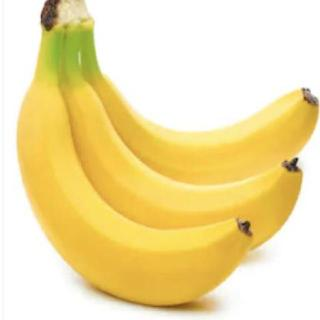banana: (15, 82, 254, 308), (53, 78, 304, 264), (71, 77, 320, 199)
